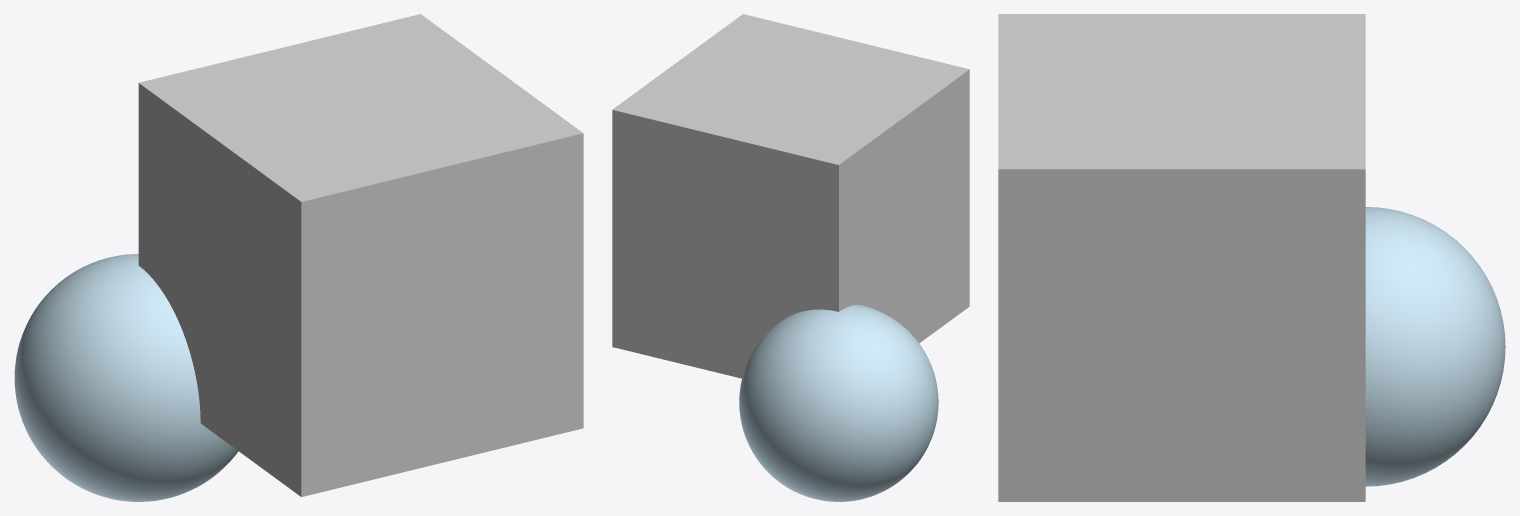
3 renders of one model, left to right at view 1: azimuth 30°, elevation 25°; view 2: azimuth 150°, elevation 25°; view 3: azimuth 270°, elevation 25°, orthographic. The views are drawn at different scales.
Parts seen in each view (by area): view 1: Part 2, Part 1; view 2: Part 2, Part 1; view 3: Part 2, Part 1.
Part boxes in pixels (left/top/right/bottom): Part 2: left=138, top=14, right=583, bottom=496; Part 1: left=14, top=254, right=238, bottom=501; Part 2: left=612, top=14, right=969, bottom=378; Part 1: left=739, top=305, right=938, bottom=501; Part 2: left=998, top=14, right=1365, bottom=501; Part 1: left=1365, top=207, right=1505, bottom=486.
Bounding box in the file's own units: 0.1381 × 0.1381 × 0.1381.
